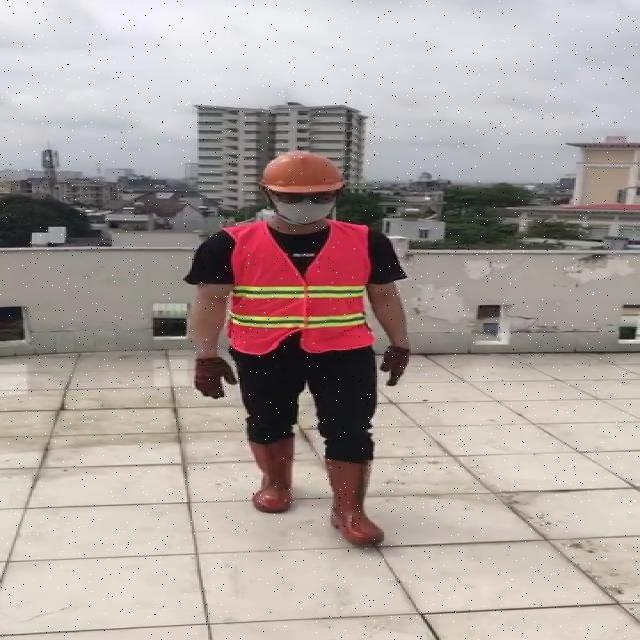Hard_hat: (254, 150, 349, 203)
Person: (171, 142, 421, 554)
Vest: (222, 220, 373, 357)
